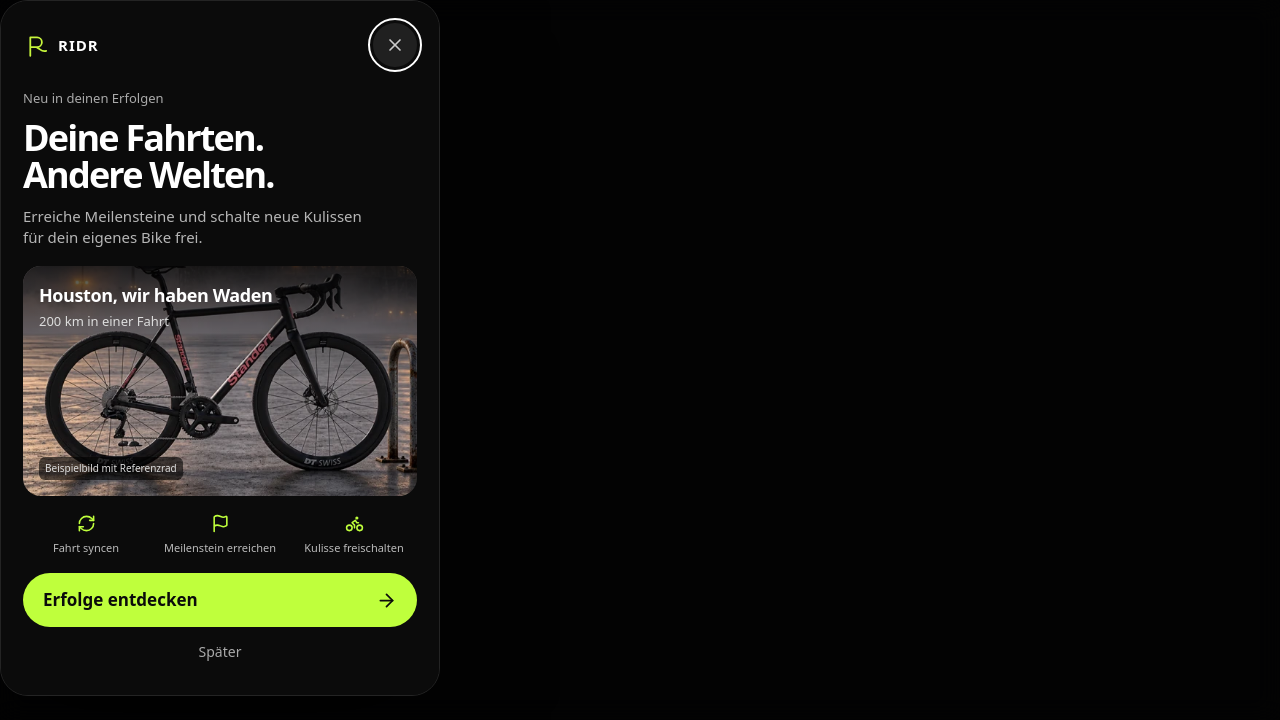
Test: scene announcement launch eligibility › navigates to achievements and labels reference imagery
The image size is (1280, 720).
Expected: the text "Beispielbild mit Referenzrad" is shown, [39,457,183,480]
Step 1. Click the button "Erfolge entdecken" → (120,600), box [23,573,417,627]
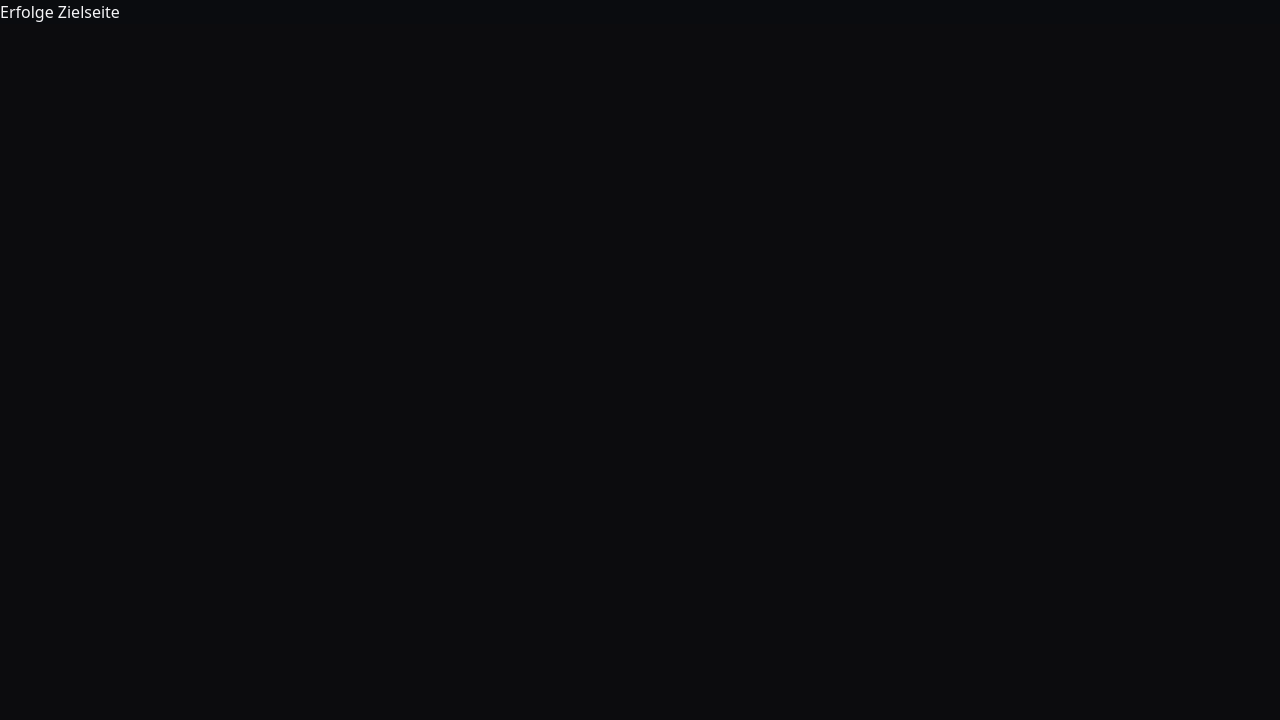
Now the heading "Erfolge Zielseite" is shown, box [0,1,120,23]
Now the dialog is gone
